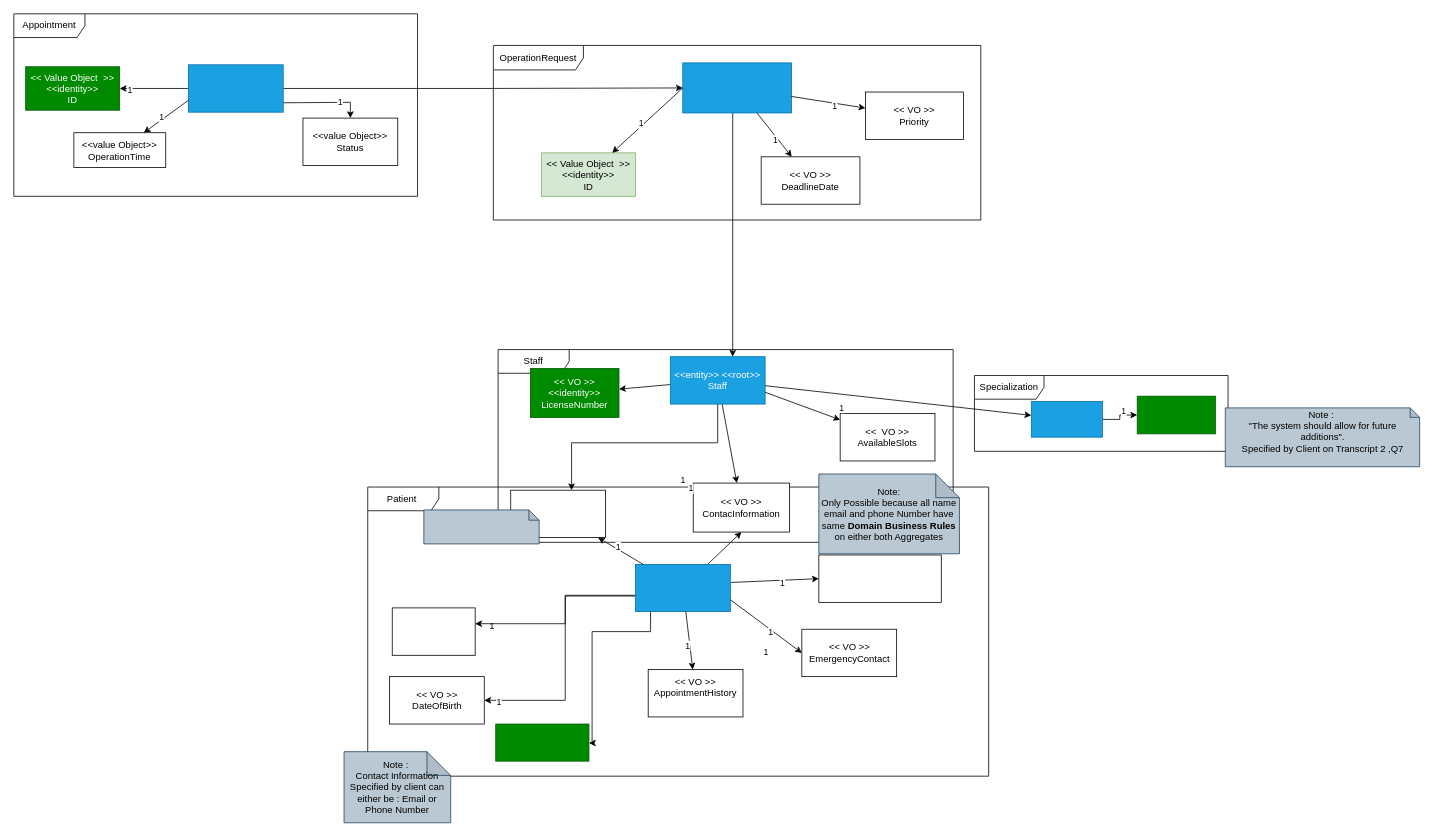
Image size: 1434x837. Some labels were removed from this diagram. Each missing label, with the centre of its shape:
<< VO >> << Id >> (MRN): the point at 542,742
<< VO >> <<Id>> Designation: the point at 1175,414
<< VO >> Alergies / MedicalCondition: the point at 879,578
<< VO >> Gender: the point at 433,631
<< VO >> Name: the point at 558,513
<<entity>> <<root>> Patient: the point at 682,587
<<entity>> <<root>> Specialization: the point at 1066,419
<entity>><<root>> Appointment: the point at 235,88
<entity>><<root>> Operation Request: the point at 736,87
Note : Name Class: First Name. Last Name .Full Name: the point at 481,526
